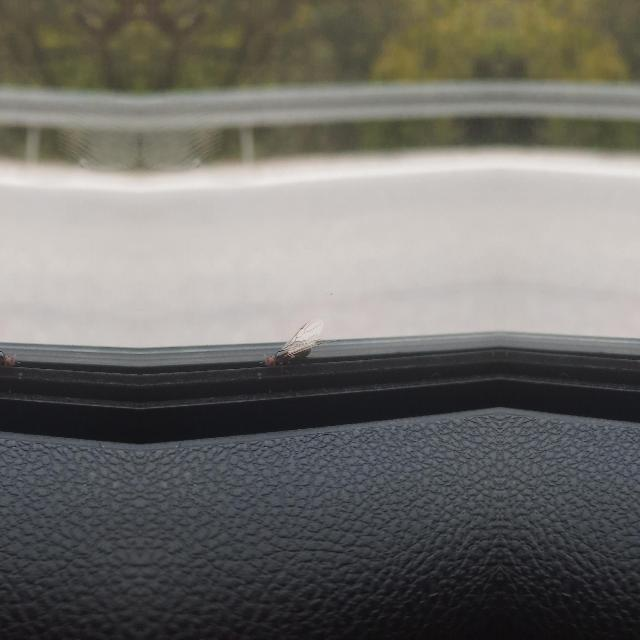Crematogaster: (258, 318, 326, 372), (0, 318, 21, 372)
